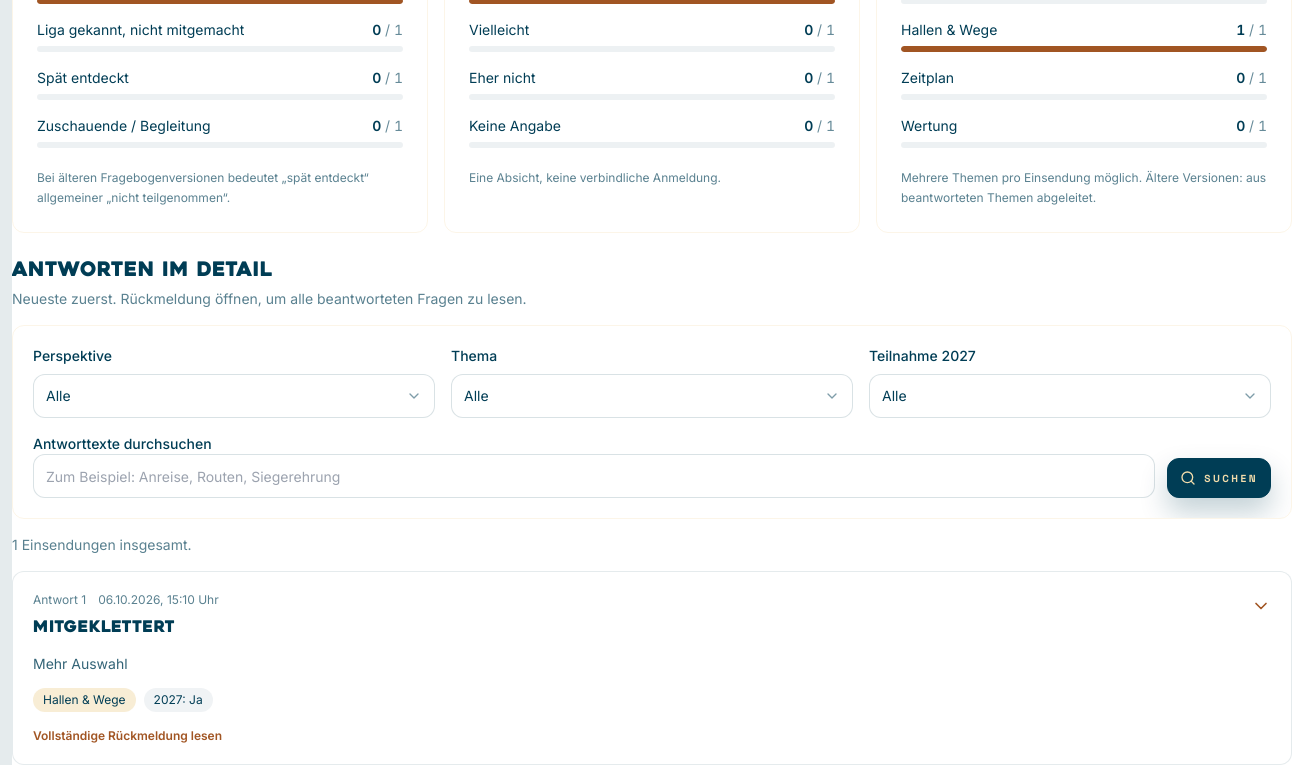
Test: season feedback dashboard › shows metrics and original labeled answers rather than unique-person counts
The width and height of the screenshot is (1292, 765).
(page scrolled)
expect the text "1 Einsendungen insgesamt." is shown: met, box [12,536,192,553]
Click the heading "Vollständige Rückmeldung lesen".
click(652, 668)  # box [13,572,1291,764]
(page scrolled)
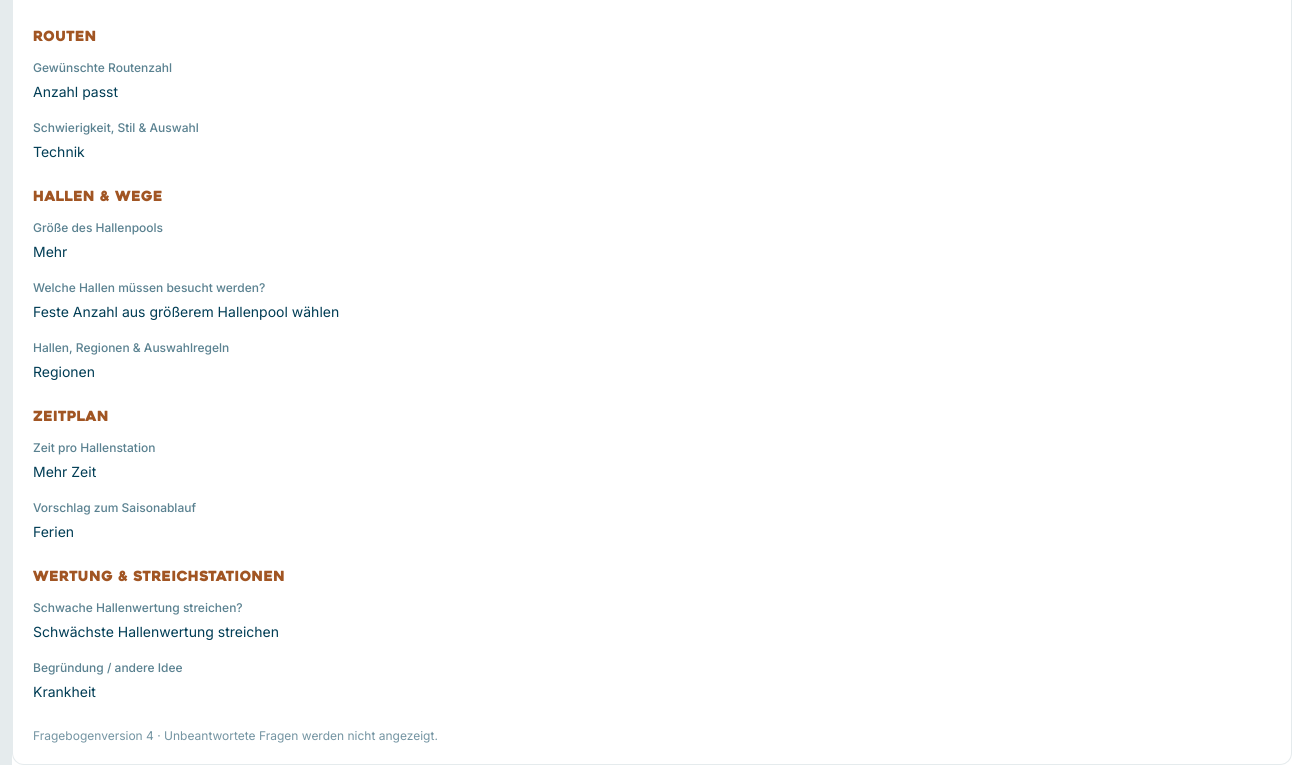
expect the text "Hallen, Regionen & Auswahlregeln" is shown: met, box [33,340,229,355]
expect the text "Regionen" is shown: met, box [33,363,95,380]
